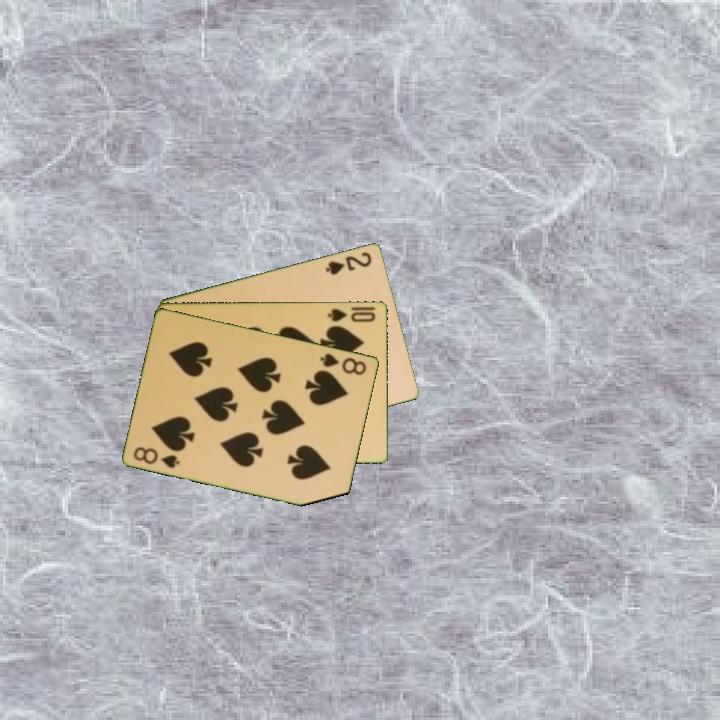10s: (325, 304, 378, 325)
2s: (322, 248, 375, 278)
8s: (317, 349, 369, 378), (130, 443, 183, 471)
